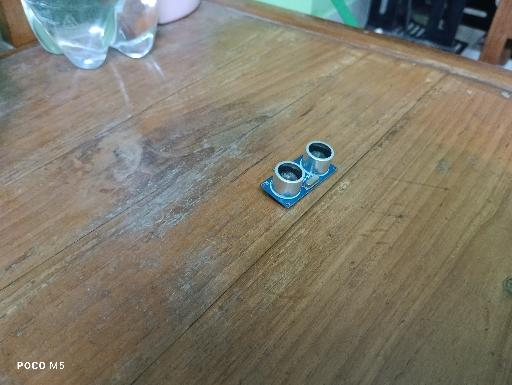sensor: (259, 140, 338, 209)
